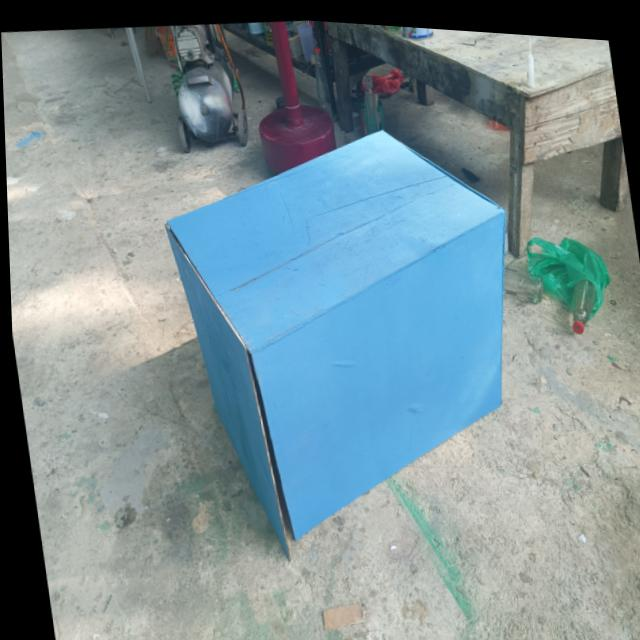blue_box: (172, 84, 552, 569)
